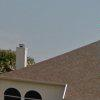Chimney: (11, 39, 31, 76)
